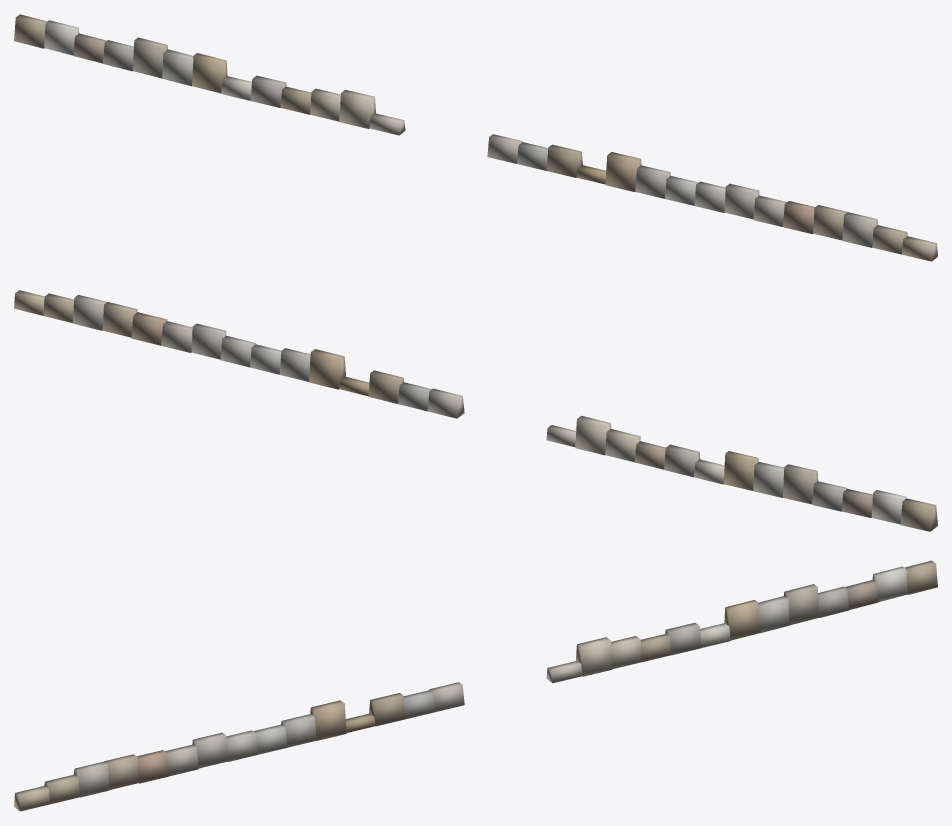
The model's file is farm_20_25_collision.glb.
3 renders of one model, top to bottom at view 1: azimuth 30°, elevation 25°; view 2: azimuth 210°, elevation 25°; view 3: azimuth 270°, elevation 25°, orthographic.
Parts seen in each view (by area): view 1: geometry_0; view 2: geometry_0; view 3: geometry_0.
Boxes of the visible parts, x1,y1,x2,y2 form: geometry_0: [14, 14, 937, 261]; geometry_0: [14, 290, 937, 531]; geometry_0: [14, 560, 937, 811].
Bounding box in the file's own units: 24.77 × 1.56 × 41.92.
